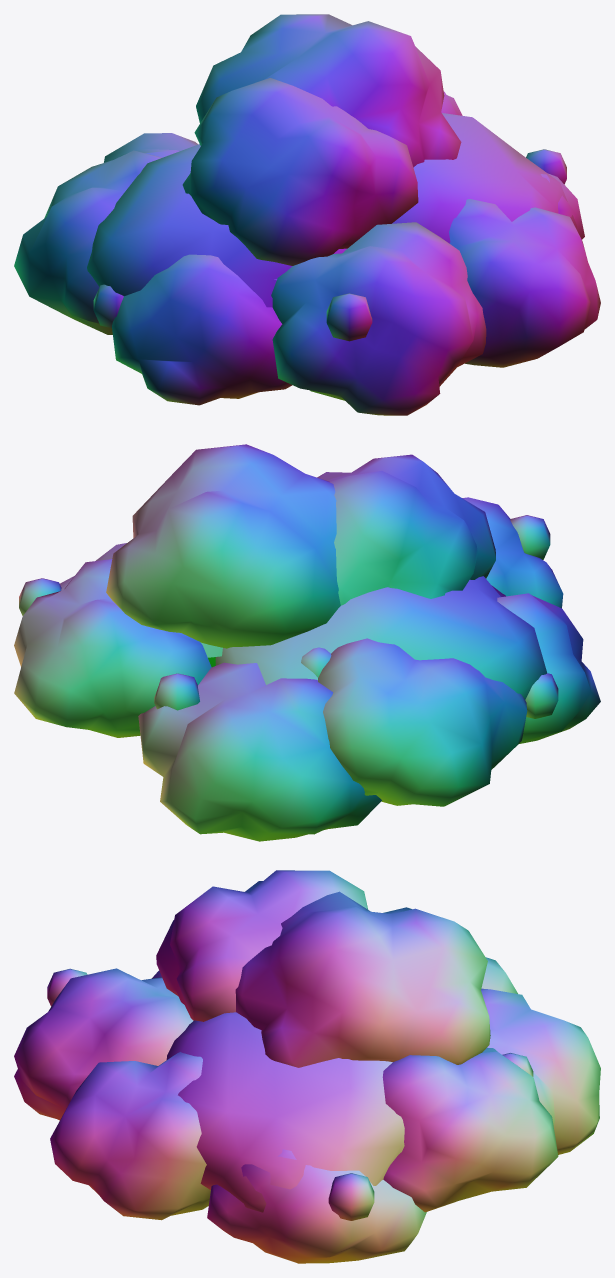
Rendered from SM_Foliage_Plains_BerryBush_B.fbx.
The picture shows the model from 3 angles, top to bottom: view 1: azimuth 30°, elevation 25°; view 2: azimuth 150°, elevation 25°; view 3: azimuth 270°, elevation 25°; orthographic projection.
Parts seen in each view (by area): view 1: SM_Foliage_Plains_BerryBush_B; view 2: SM_Foliage_Plains_BerryBush_B; view 3: SM_Foliage_Plains_BerryBush_B.
Boxes of the visible parts, x1,y1,x2,y2 form: SM_Foliage_Plains_BerryBush_B: [14, 14, 600, 415]; SM_Foliage_Plains_BerryBush_B: [14, 444, 600, 841]; SM_Foliage_Plains_BerryBush_B: [14, 870, 600, 1263].
Bounding box in the file's own units: 1.19 × 0.6667 × 1.2.
